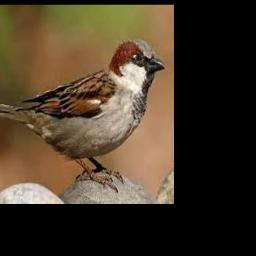Sparrow: (0, 39, 165, 191)
